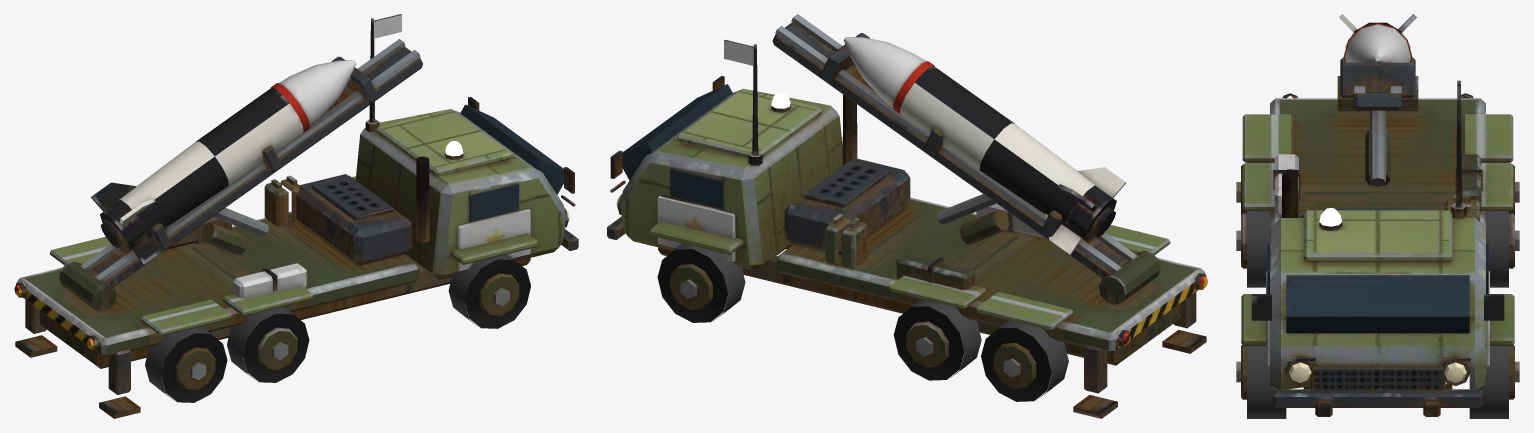
The model's file is v2rl.soviet.glb.
3 renders of one model, left to right at view 1: azimuth 30°, elevation 25°; view 2: azimuth 150°, elevation 25°; view 3: azimuth 270°, elevation 25°, orthographic. The views are drawn at different scales.
Visible parts, largest first — view 1: root_mesh, rocket_mesh, rail_mesh; view 2: root_mesh, rocket_mesh, rail_mesh; view 3: root_mesh, rail_mesh, rocket_mesh.
Boxes of the visible parts, x1,y1,x2,y2 form: root_mesh: (14, 14, 578, 418); rocket_mesh: (91, 60, 356, 265); rail_mesh: (58, 39, 422, 311); root_mesh: (607, 39, 1207, 418); rocket_mesh: (843, 37, 1125, 255); rail_mesh: (772, 14, 1160, 304); root_mesh: (1236, 80, 1519, 418); rail_mesh: (1337, 57, 1418, 186); rocket_mesh: (1339, 14, 1416, 89).
Bounding box in the file's own units: 1.02 × 0.508 × 0.42.
Materials: 3 (1 with a texture image).
